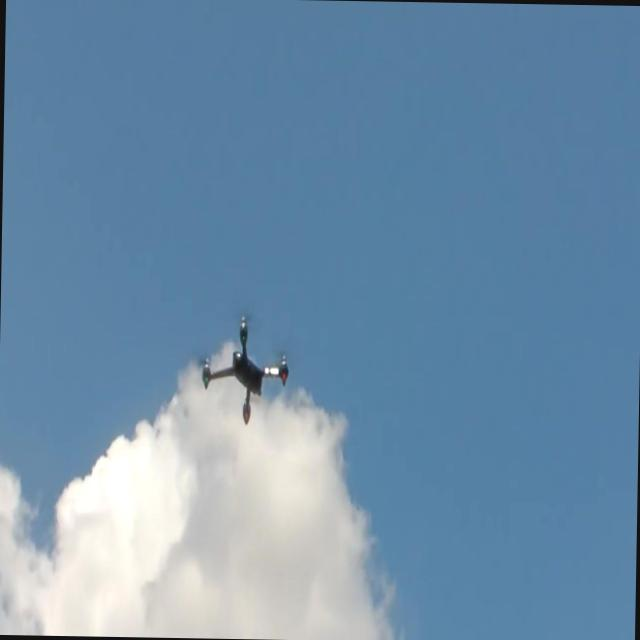drone: (198, 312, 291, 426)
